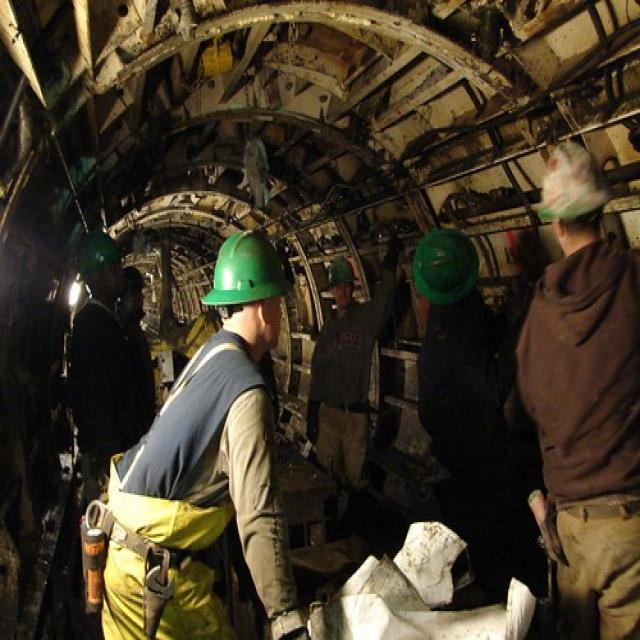Safety-Helmet: (532, 106, 638, 240), (196, 224, 296, 319), (321, 249, 361, 292)
